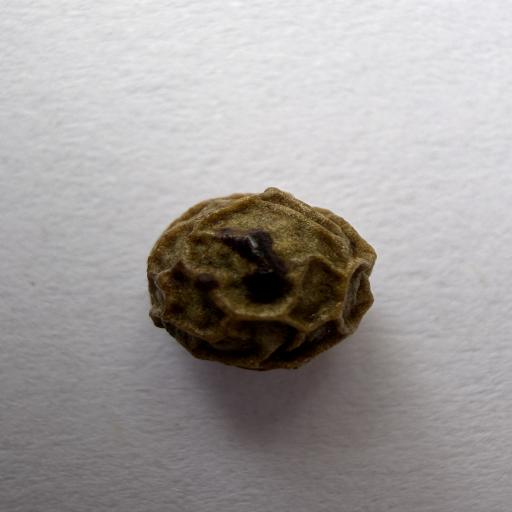Black_pepper: (141, 176, 379, 382)
